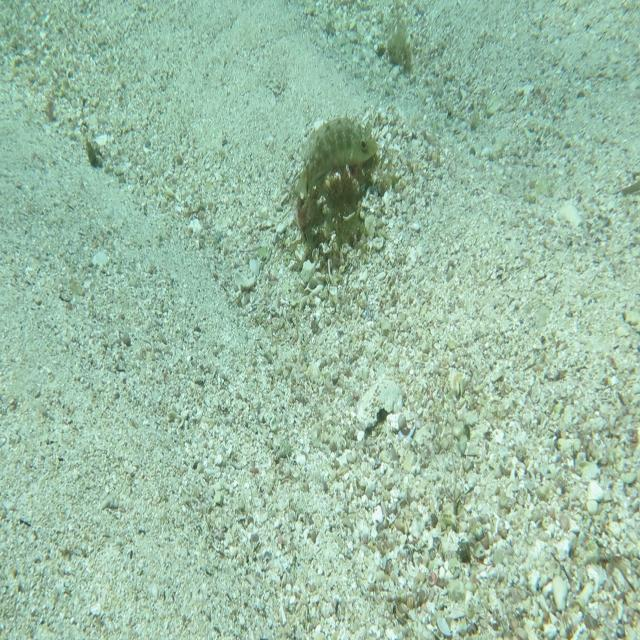MAN: (296, 112, 378, 208)
nest: (284, 114, 379, 268)
vegetation: (386, 24, 414, 80), (620, 180, 640, 198)
